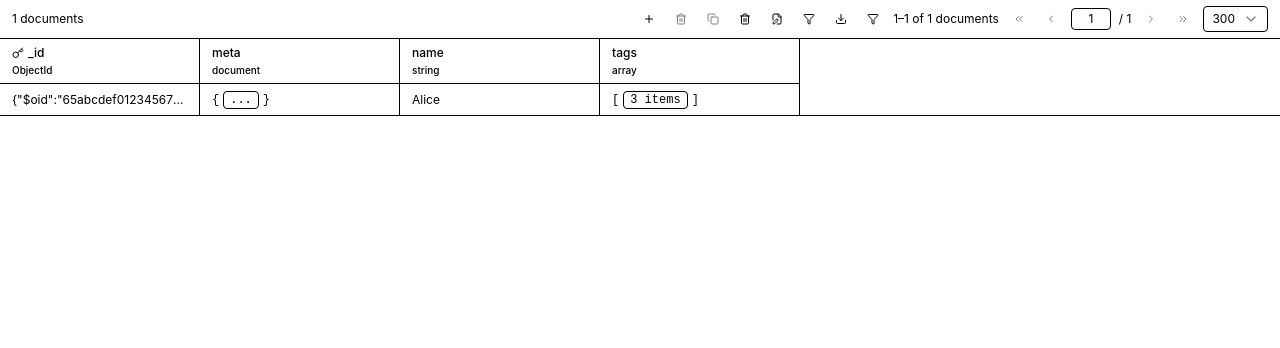
Scenario: DocumentDataGrid — nested inline tree (Sprint 341 Option D) › inline `+ key` add on tree object (AC-344-F-01) › AC-344-F-04: Mongo grid rejects `_id` root add via forbiddenRootKeys
Expected: the text "Alice" is shown, [412, 92, 440, 108]
Step 1. Click the button named "Expand meta" → (241, 100), box [223, 90, 259, 108]
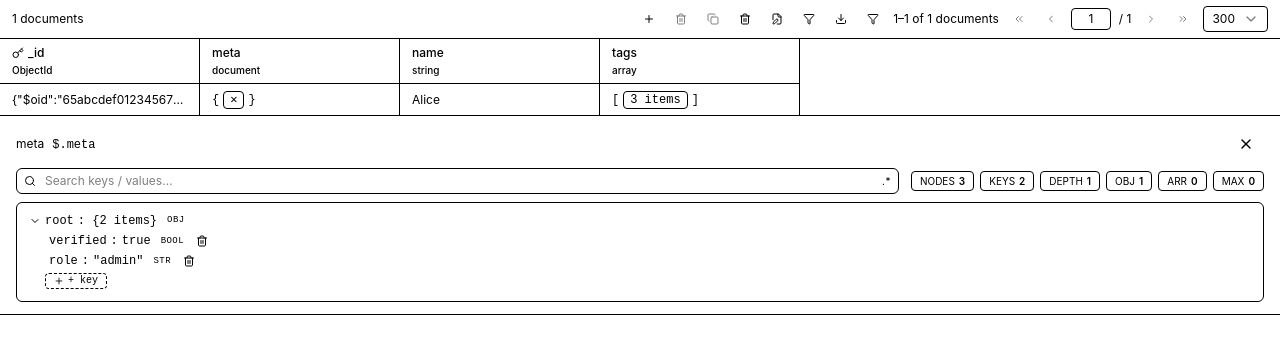
Step 2. Click the button with test id "tree-add-key-__root" → (76, 281), box [45, 273, 107, 289]
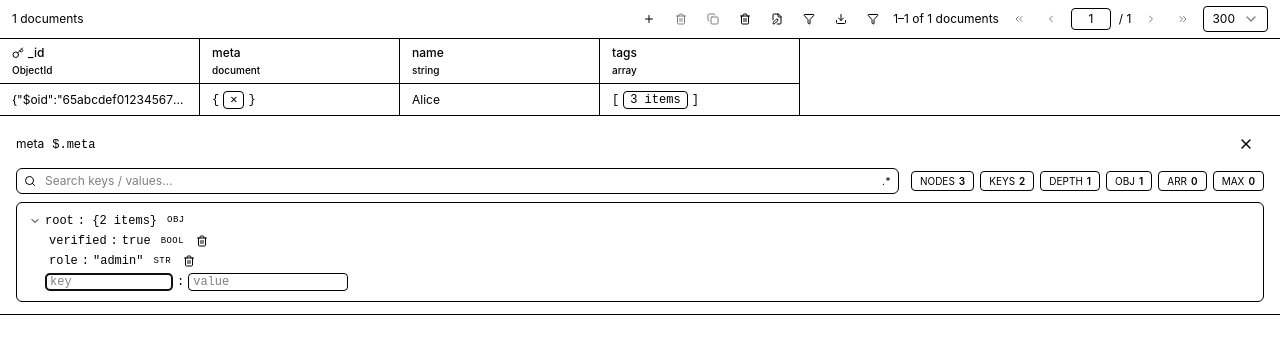
Step 3. Type "_id" into the field with test id "tree-add-key-input-__root" → (109, 282), box [45, 273, 173, 291]
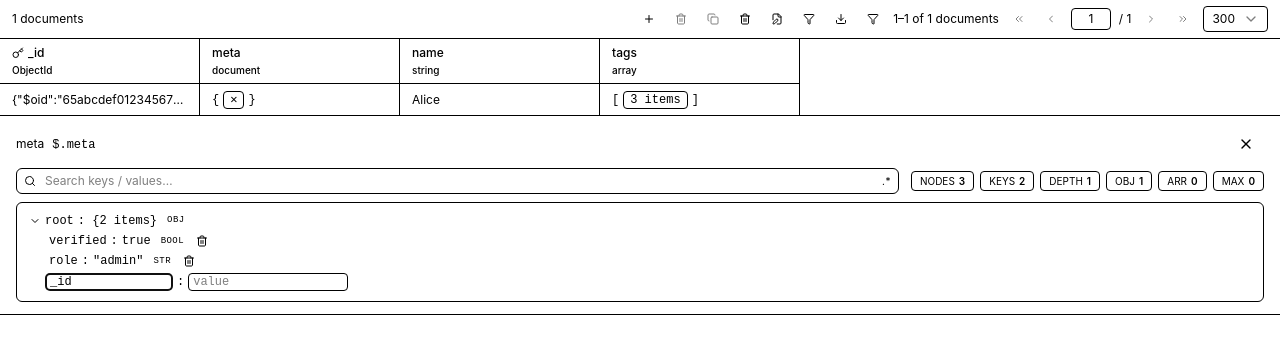
Step 4. Type "\"x\"" into the field with test id "tree-add-value-input-__root" → (268, 282), box [188, 273, 348, 291]
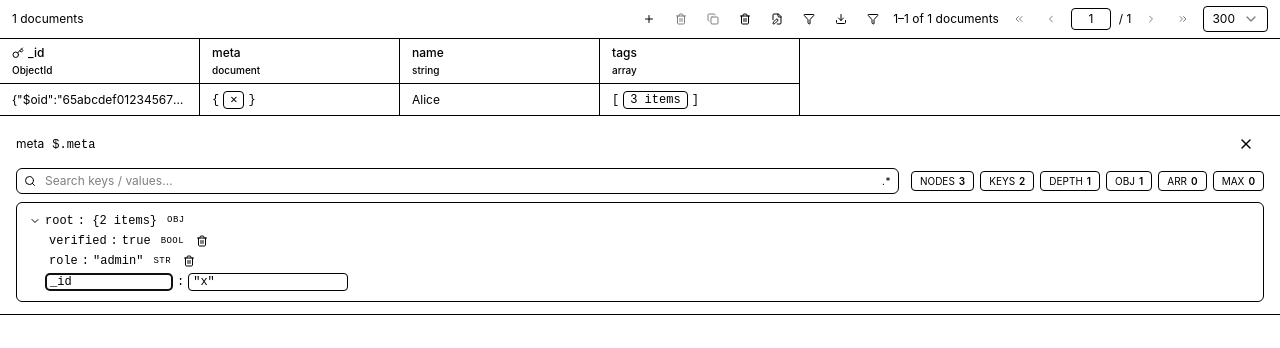
Step 5. Press Enter in the field with test id "tree-add-value-input-__root", box [188, 273, 348, 291]
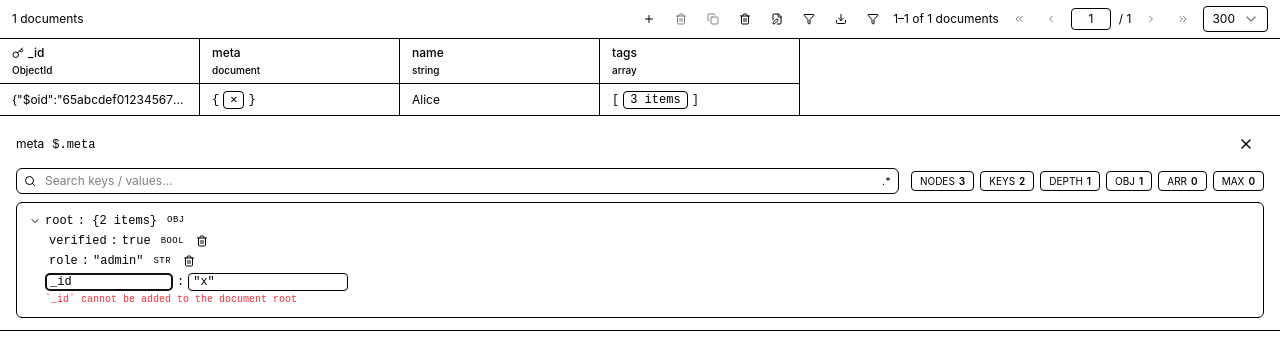
Expected: the text "`_id` cannot be added to the document root" is shown, [45, 294, 297, 305]
